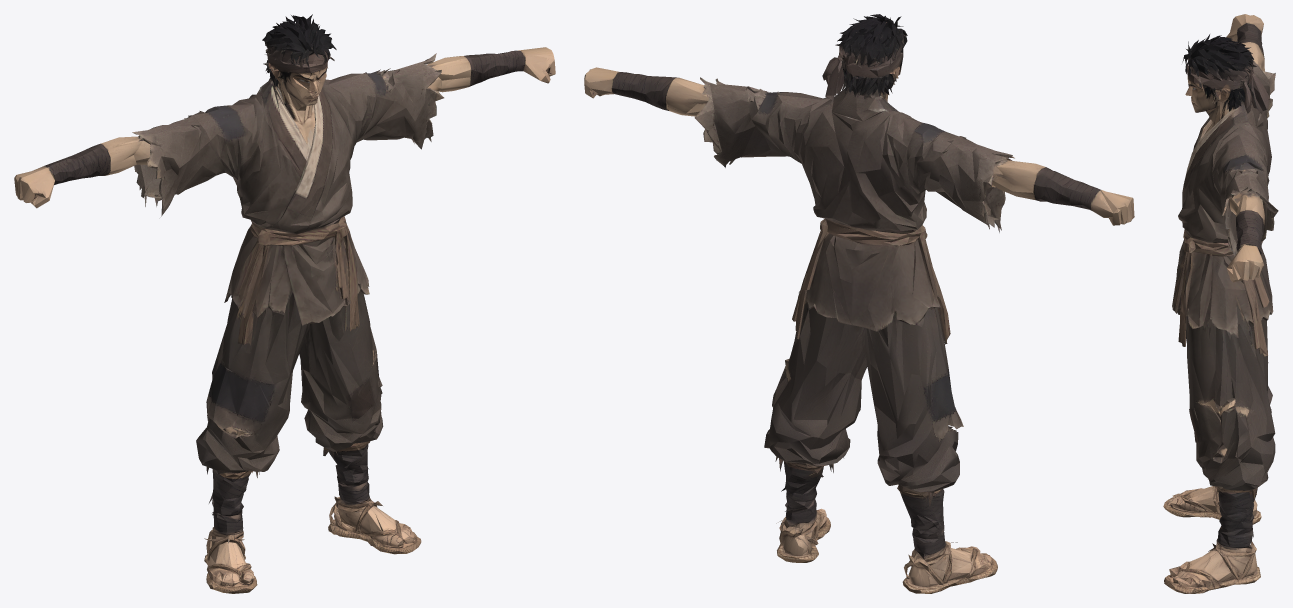
File: bandit_mesh.glb
3 views of the same model, side by side, from view 1: azimuth 30°, elevation 25°; view 2: azimuth 150°, elevation 25°; view 3: azimuth 270°, elevation 25° (orthographic). The views are drawn at different scales.
Bounding box in the file's own units: 1.9 × 1.82 × 0.3725.
1 material, 1 textured.
